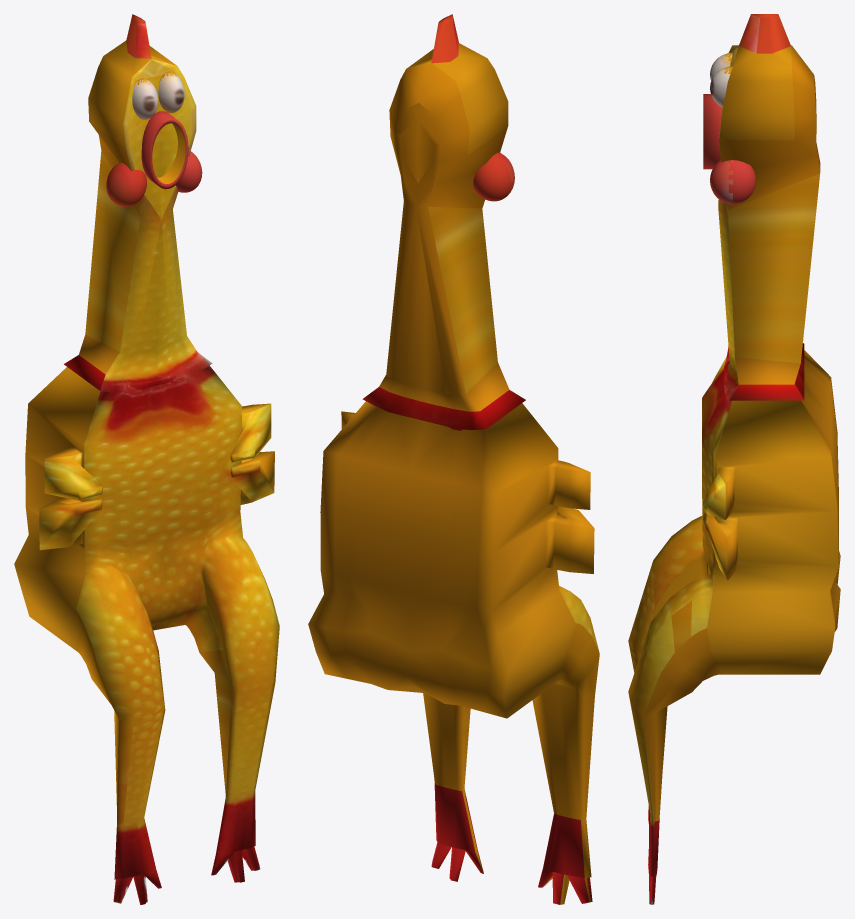
File: polloGriton.fbx
The picture shows the model from 3 angles, left to right: view 1: azimuth 30°, elevation 25°; view 2: azimuth 150°, elevation 25°; view 3: azimuth 270°, elevation 25°; orthographic projection. The views are drawn at different scales.
Visible parts, largest first — view 1: Cube; view 2: Cube; view 3: Cube.
Part boxes in pixels (x1,y1,x2,y2): Cube: [14, 14, 279, 904]; Cube: [308, 14, 599, 904]; Cube: [628, 14, 840, 904].
Size of the model in its own units: 17.99 by 60.89 by 13.55.
Materials: 1 (1 with a texture image).
